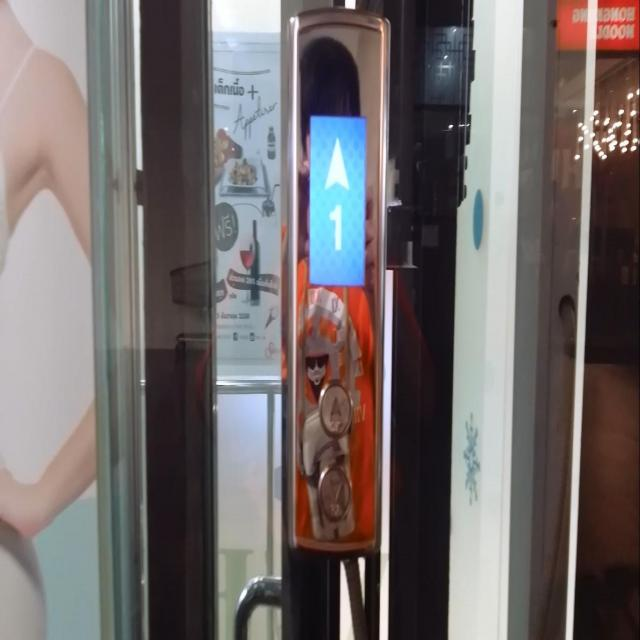down: (318, 462, 352, 522)
led: (309, 114, 366, 285)
up: (319, 378, 351, 438)
